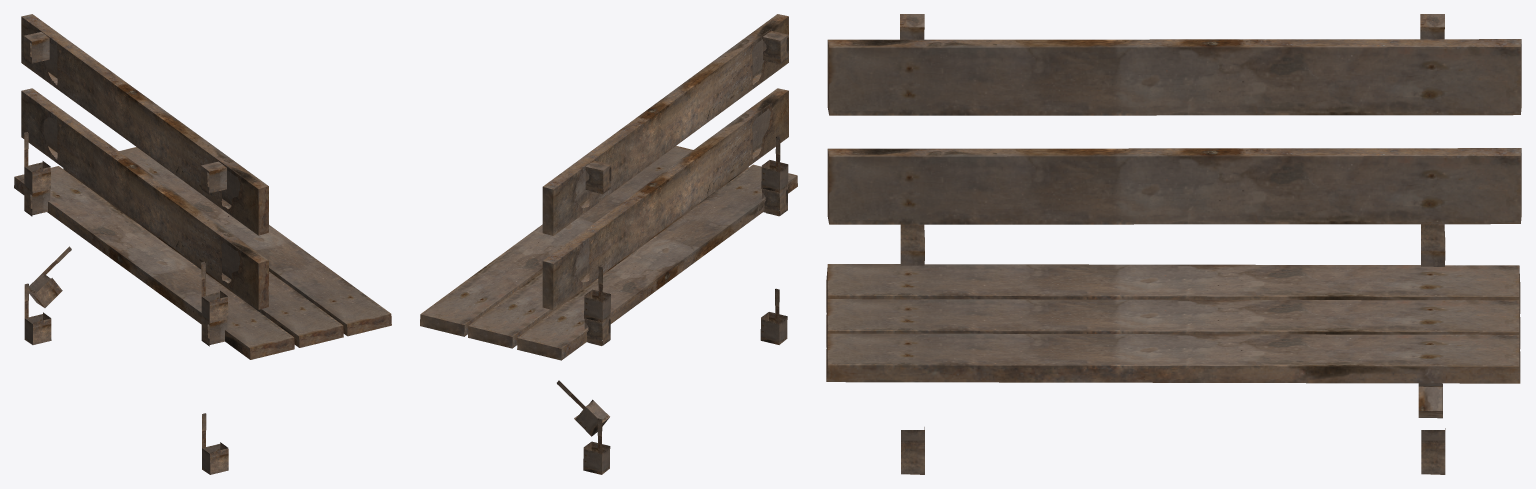
Rendered from OU_AR_Bank_01_D.fbx.
3 renders of one model, left to right at view 1: azimuth 30°, elevation 25°; view 2: azimuth 150°, elevation 25°; view 3: azimuth 270°, elevation 25°, orthographic. The views are drawn at different scales.
Parts seen in each view (by area): view 1: OU_AR_Bank_01_D; view 2: OU_AR_Bank_01_D; view 3: OU_AR_Bank_01_D.
Part boxes in pixels (x1,y1,x2,y2): OU_AR_Bank_01_D: (14,14,391,474); OU_AR_Bank_01_D: (420,14,797,474); OU_AR_Bank_01_D: (826,14,1521,474).
Bounding box in the file's own units: 73.02 × 135 × 190.
2 materials, 2 textured.
